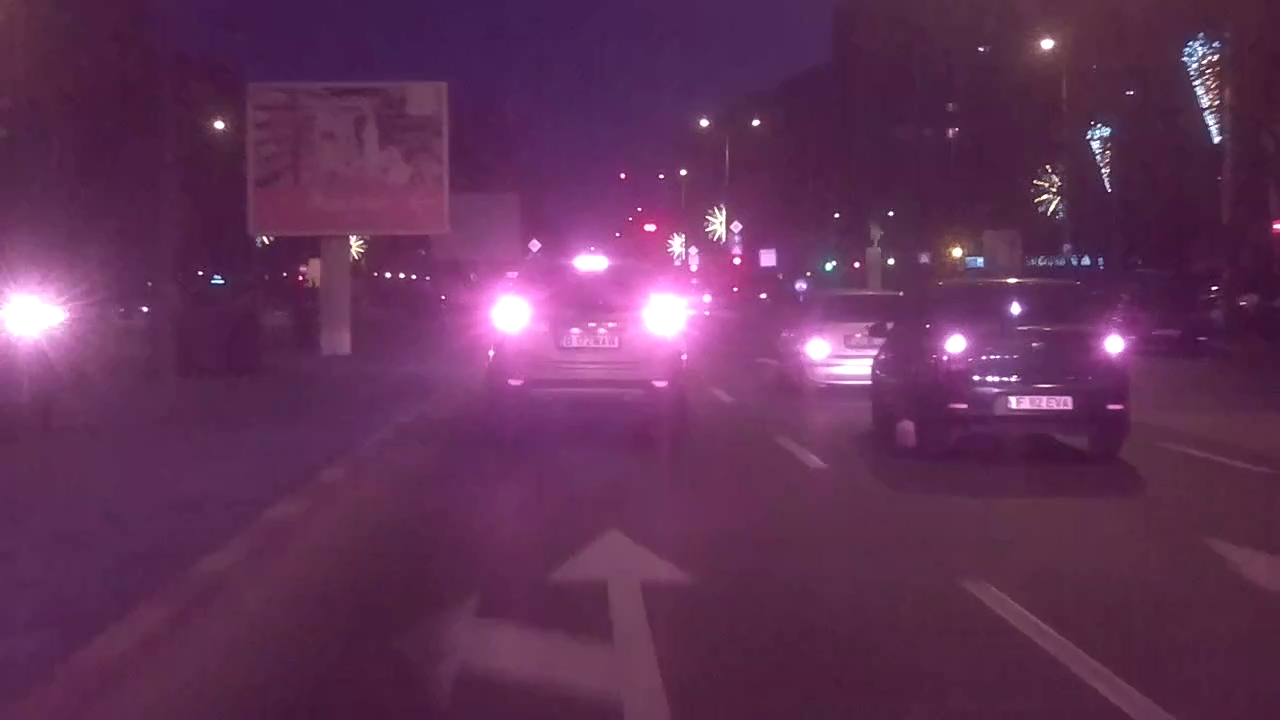license-plate: (1003, 391, 1076, 413), (554, 331, 621, 350)
